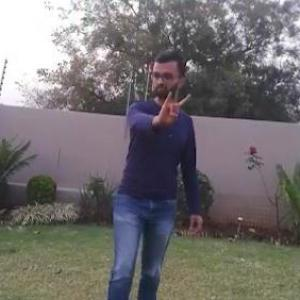takeoff-hand: (146, 86, 196, 131)
